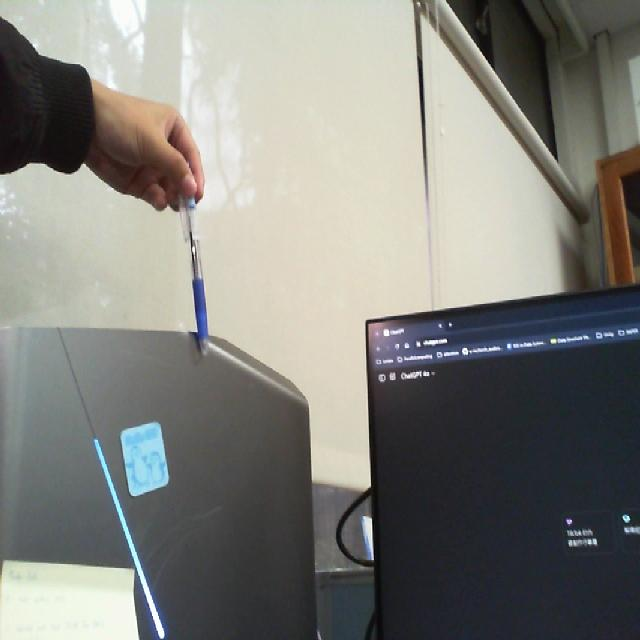Pen: (167, 183, 232, 406)
